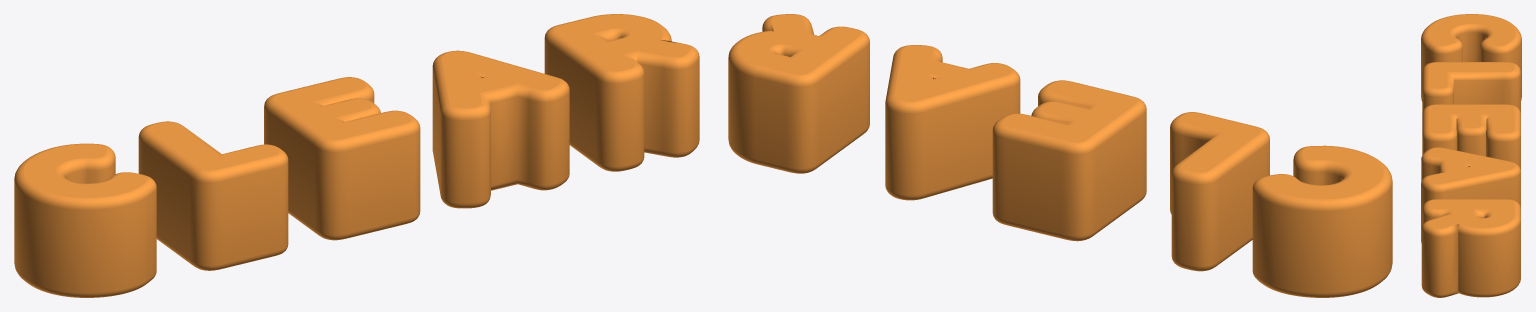
The model's file is Clear.fbx.
3 views of the same model, side by side, from view 1: azimuth 30°, elevation 25°; view 2: azimuth 150°, elevation 25°; view 3: azimuth 270°, elevation 25° (orthographic). The views are drawn at different scales.
Parts seen in each view (by area): view 1: Text.007; view 2: Text.007; view 3: Text.007.
Part boxes in pixels (bbox=[...]): Text.007: bbox=[14, 14, 699, 297]; Text.007: bbox=[728, 14, 1392, 297]; Text.007: bbox=[1421, 14, 1521, 297].
Size of the model in its own units: 247 by 36 by 47.88.
